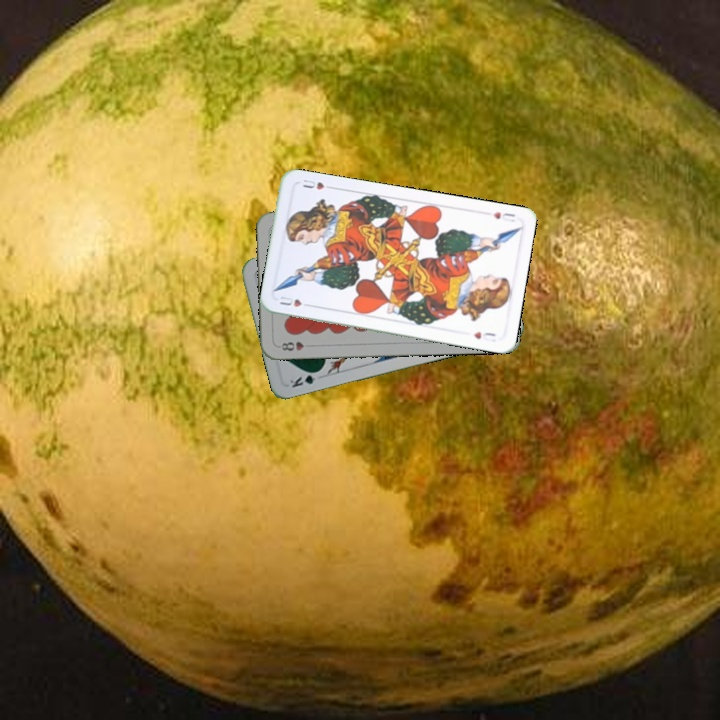GK: (286, 367, 323, 390)
H8: (277, 338, 315, 353)
HU: (276, 292, 315, 310), (489, 208, 518, 224)
